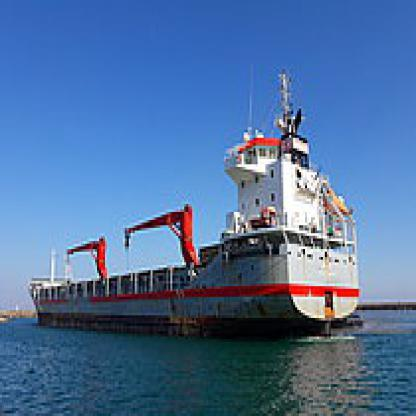Container Ship: (27, 67, 363, 338)
